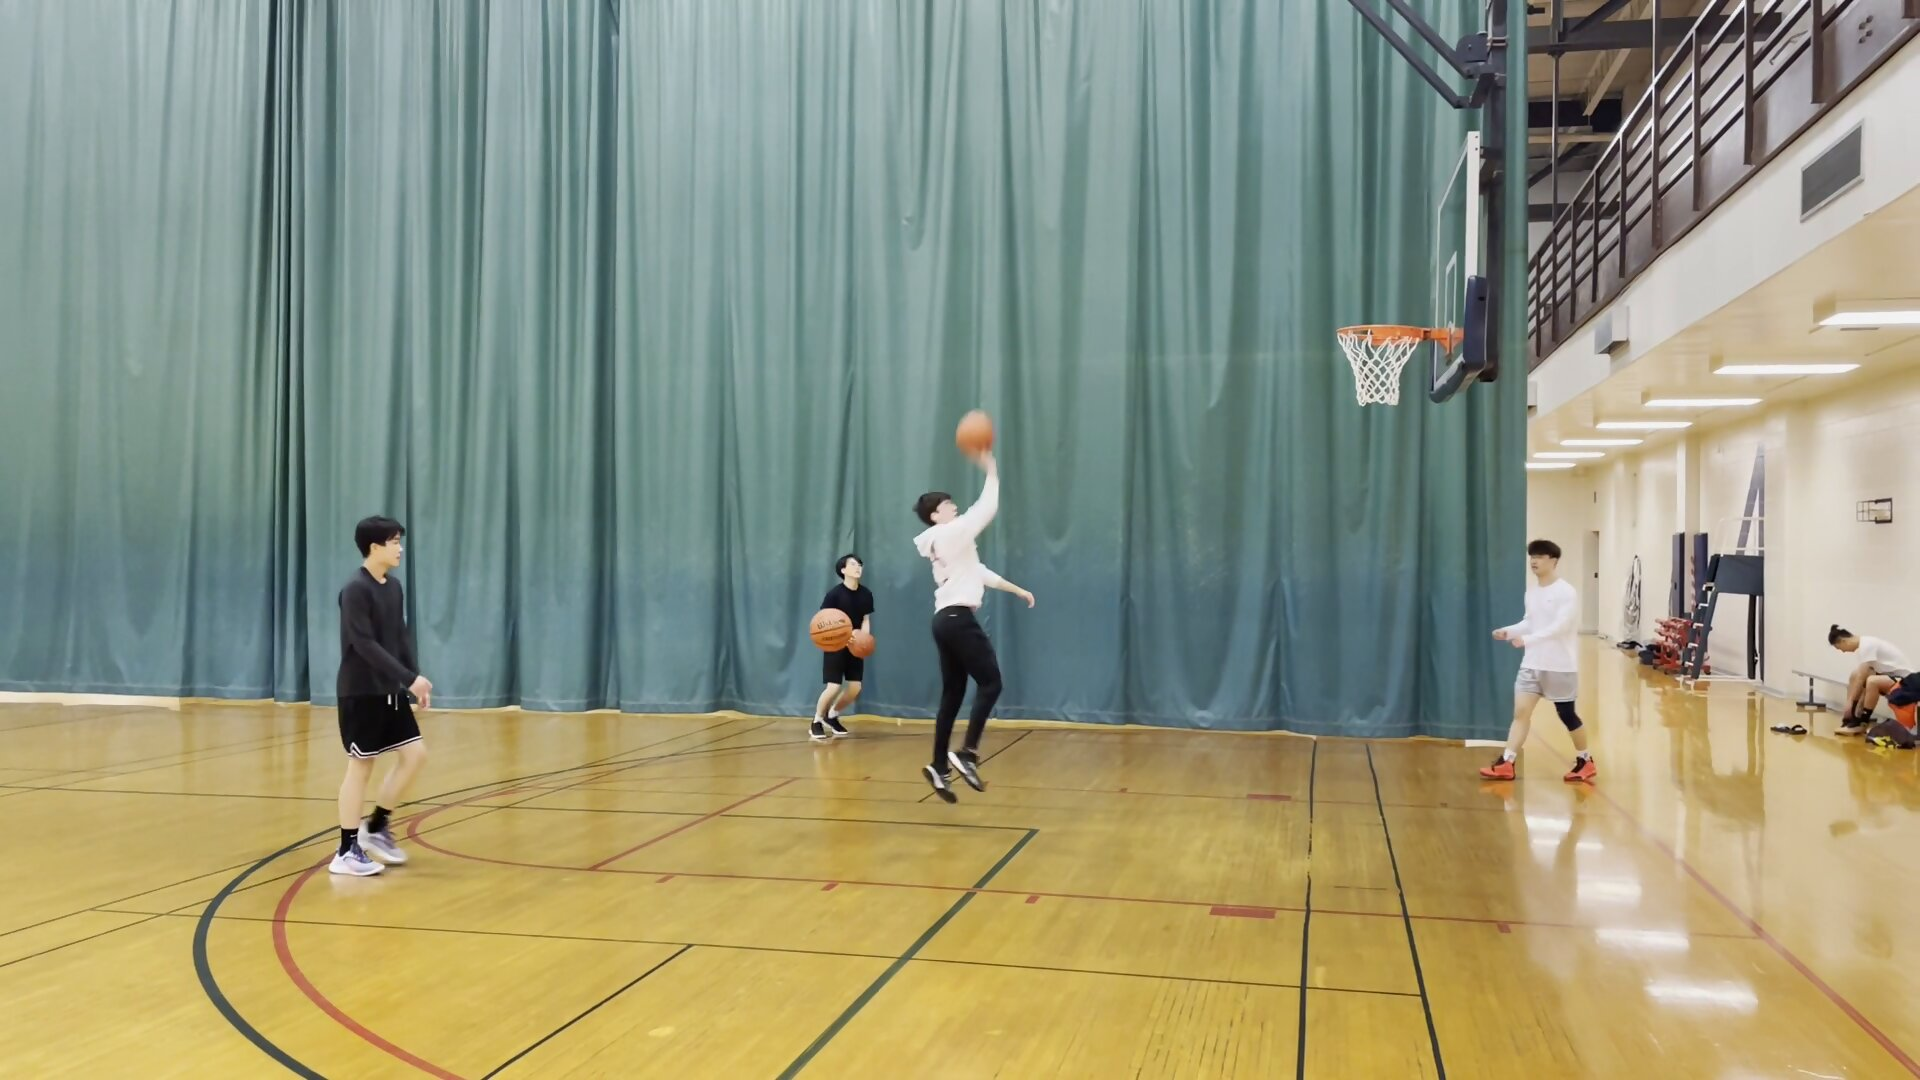ball: (949, 411, 1005, 458), (807, 608, 855, 653), (845, 629, 879, 662)
net: (1346, 382, 1410, 412)
player: (906, 454, 1033, 807), (324, 515, 438, 877), (1482, 538, 1597, 791), (810, 553, 877, 741), (1825, 627, 1917, 741)
rim: (1334, 319, 1430, 344)
